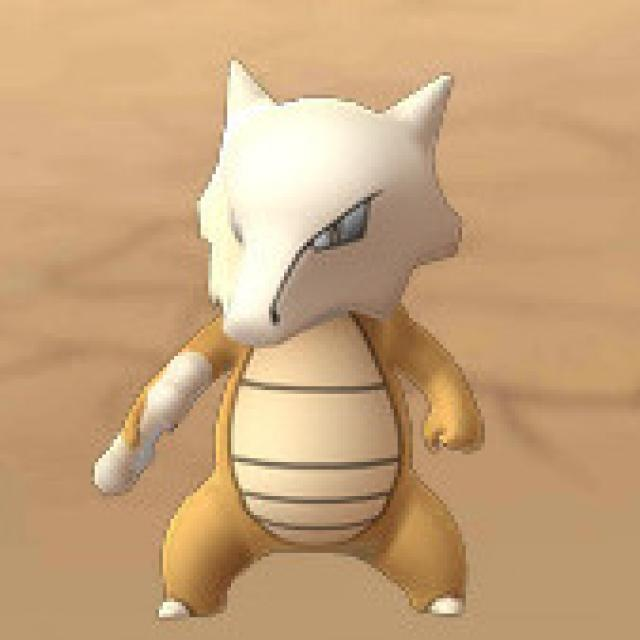Marowak: (164, 70, 481, 618)
